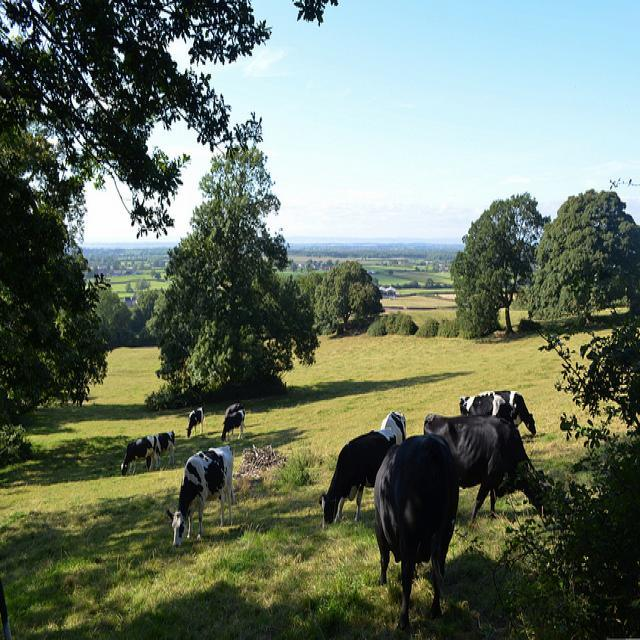cow: (370, 437, 460, 621), (423, 408, 555, 527), (318, 429, 395, 530), (165, 442, 233, 545), (456, 390, 534, 431), (119, 433, 157, 474), (143, 429, 176, 471), (377, 408, 406, 441), (219, 408, 245, 439), (185, 405, 202, 435)
